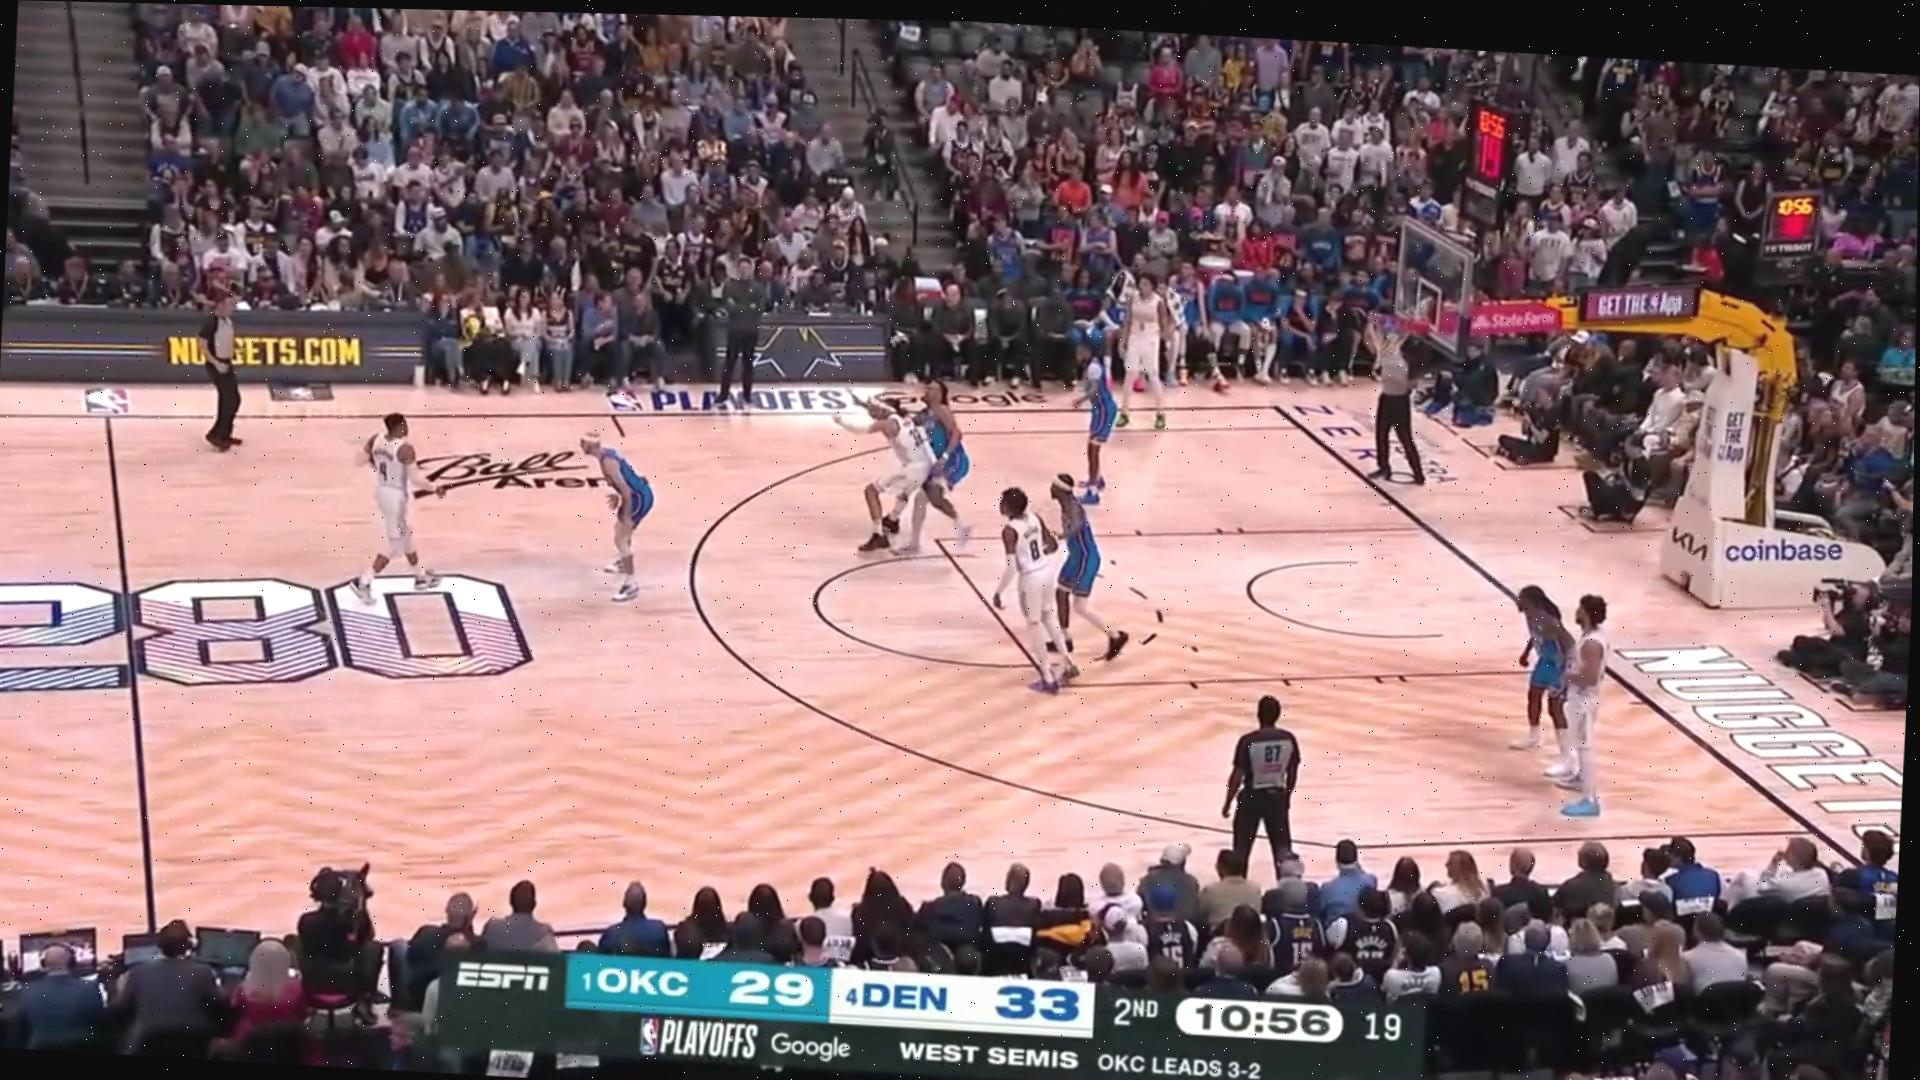foul: (820, 361, 996, 563)
